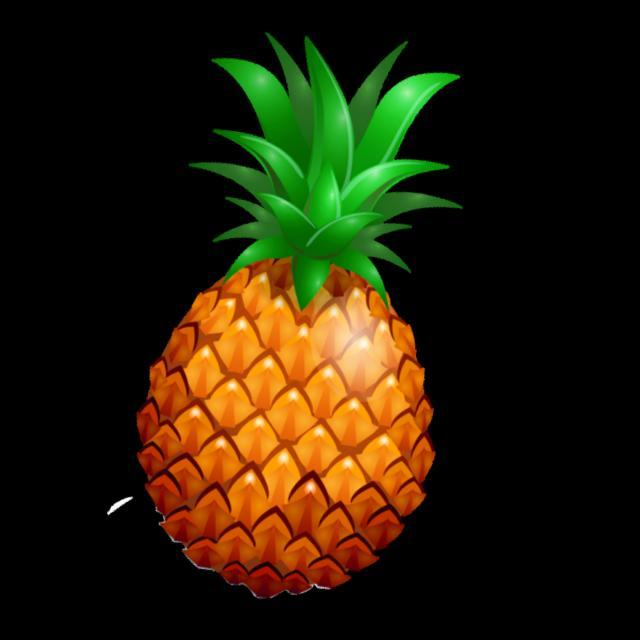PINEAPLE: (116, 27, 492, 618)
